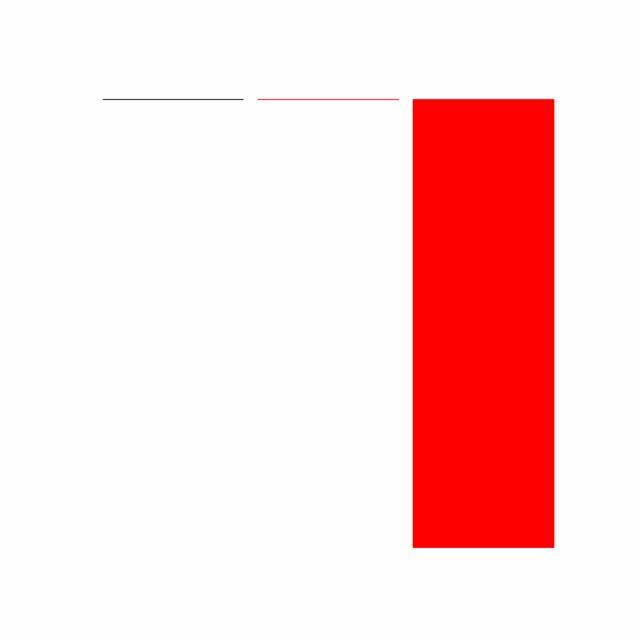Marubozu: (406, 95, 562, 553)
